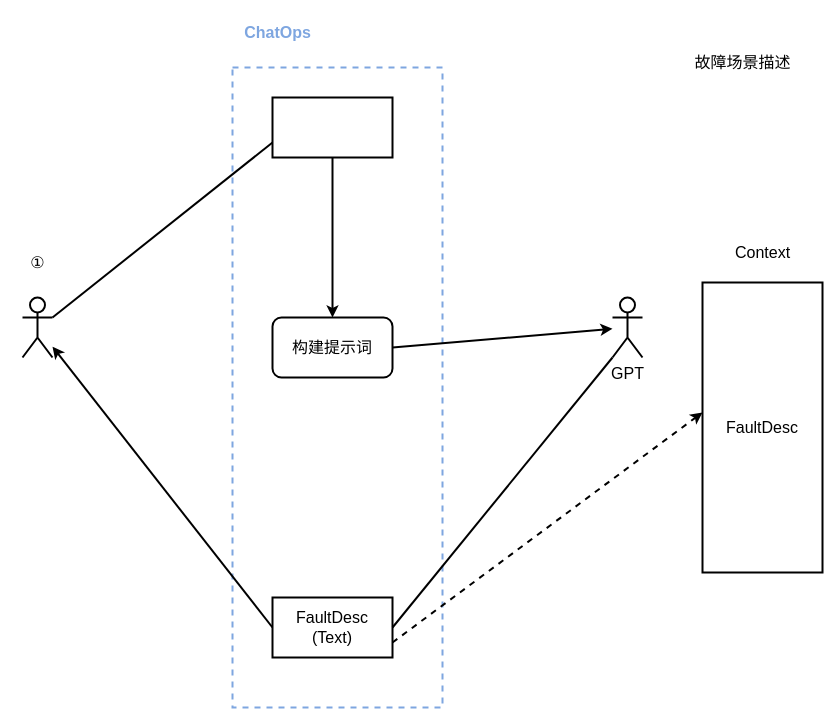
This 840x725 diagram has some shape labels left out. Here are the shapes that lost their labels. From the top down, the centre of each, then its label:
At [332,127]: "FaultDesc (JSON)".
At [37,327]: "User".
